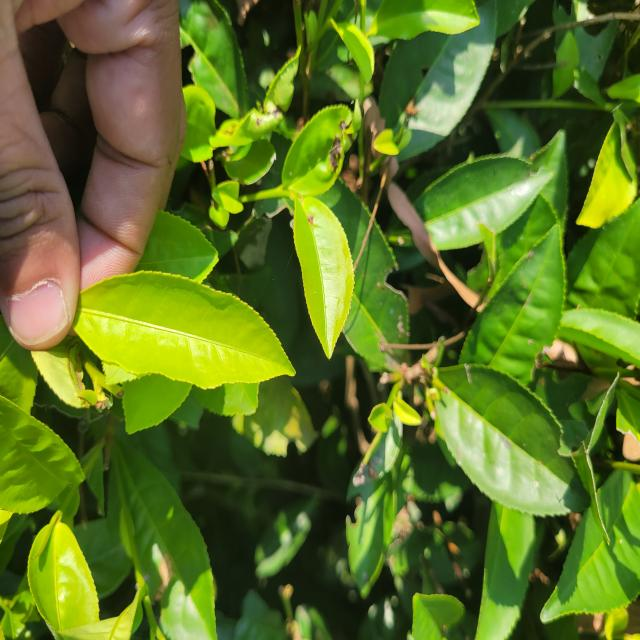Catagory A(1-2 days): (72, 262, 300, 406)
